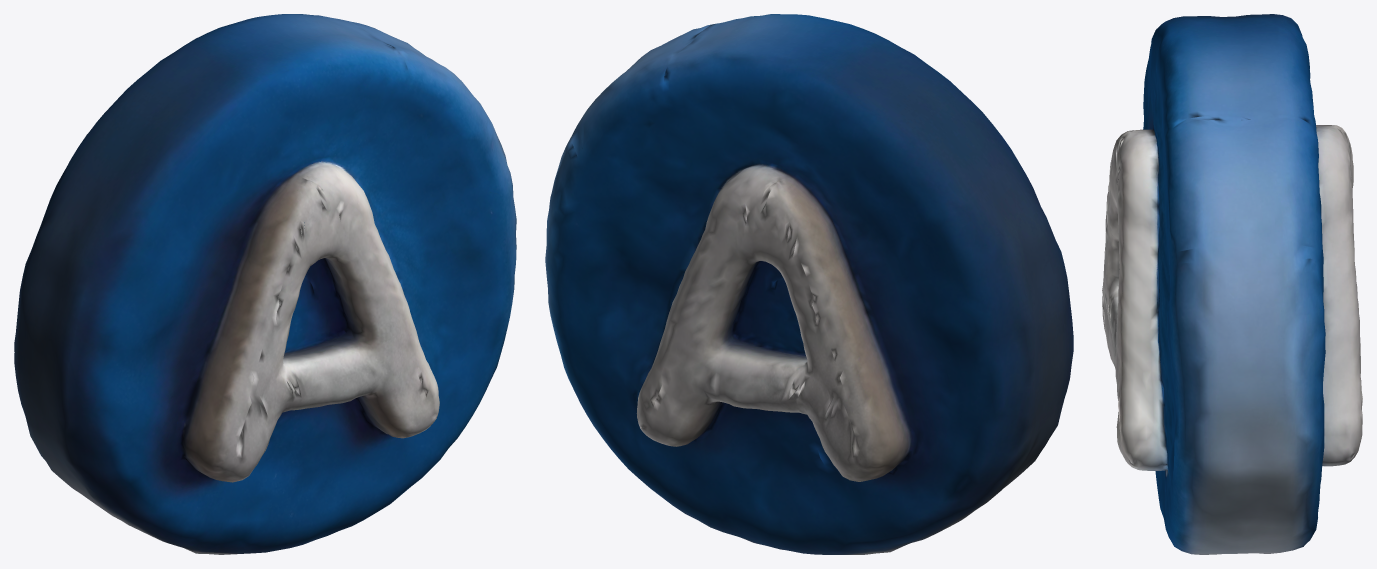
File: Stack 2A - A train.glb
3 views of the same model, side by side, from view 1: azimuth 30°, elevation 25°; view 2: azimuth 150°, elevation 25°; view 3: azimuth 270°, elevation 25° (orthographic).
Parts seen in each view (by area): view 1: Stack 2A - A train · mesh; view 2: Stack 2A - A train · mesh; view 3: Stack 2A - A train · mesh.
Part boxes in pixels (x1,y1,x2,y2): Stack 2A - A train · mesh: (14, 14, 516, 554); Stack 2A - A train · mesh: (545, 14, 1073, 554); Stack 2A - A train · mesh: (1102, 14, 1362, 554).
Bounding box in the file's own units: 1 × 0.9927 × 0.4763.
1 material, 1 textured.
